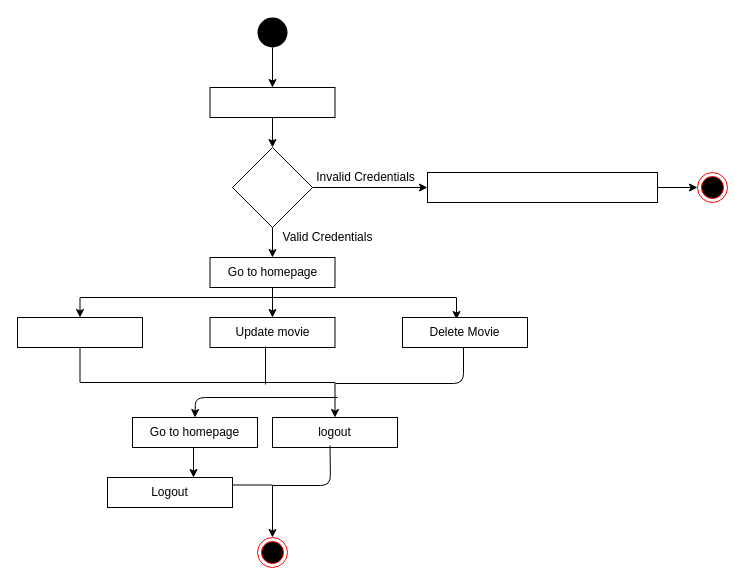
This 745x585 diagram has some shape labels left out. Here are the shapes that lost their labels. From the top down, the centre of each, then its label:
At (272,102): "Customer Login".
At (542,187): "display Invalid Credentials".
At (79,332): "Add Movie".
